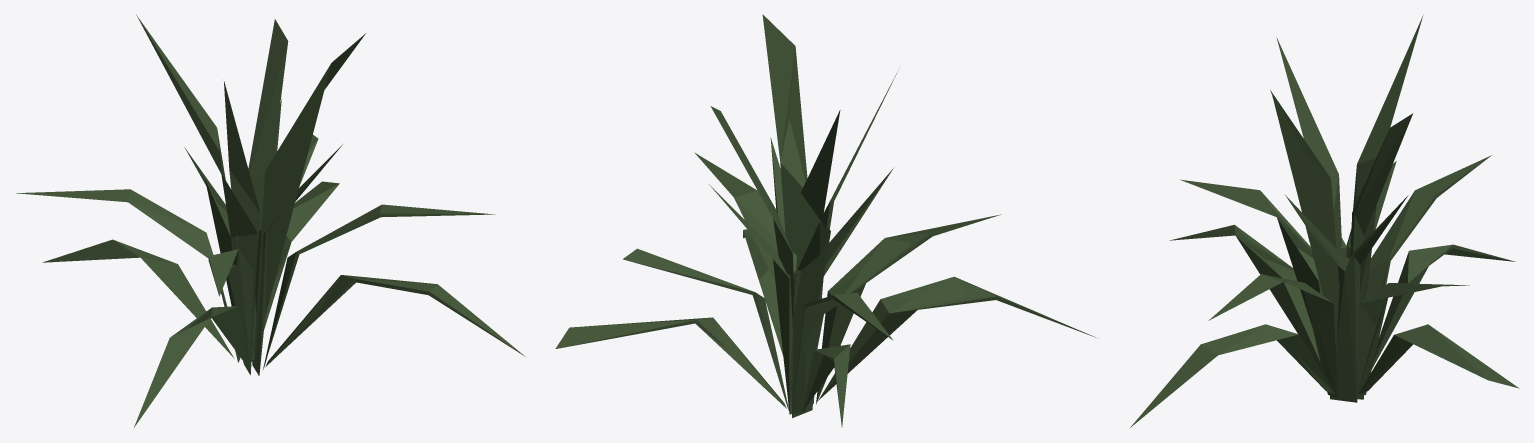
File: Plant_3.lod2.glb
3 views of the same model, side by side, from view 1: azimuth 30°, elevation 25°; view 2: azimuth 150°, elevation 25°; view 3: azimuth 270°, elevation 25° (orthographic).
Visible parts, largest first — view 1: Plant_3; view 2: Plant_3; view 3: Plant_3.
Part boxes in pixels (x1,y1,x2,y2): Plant_3: (16,15,525,427); Plant_3: (555,14,1096,427); Plant_3: (1129,15,1519,428).
Bounding box in the file's own units: 1.08 × 0.9405 × 0.9573.
